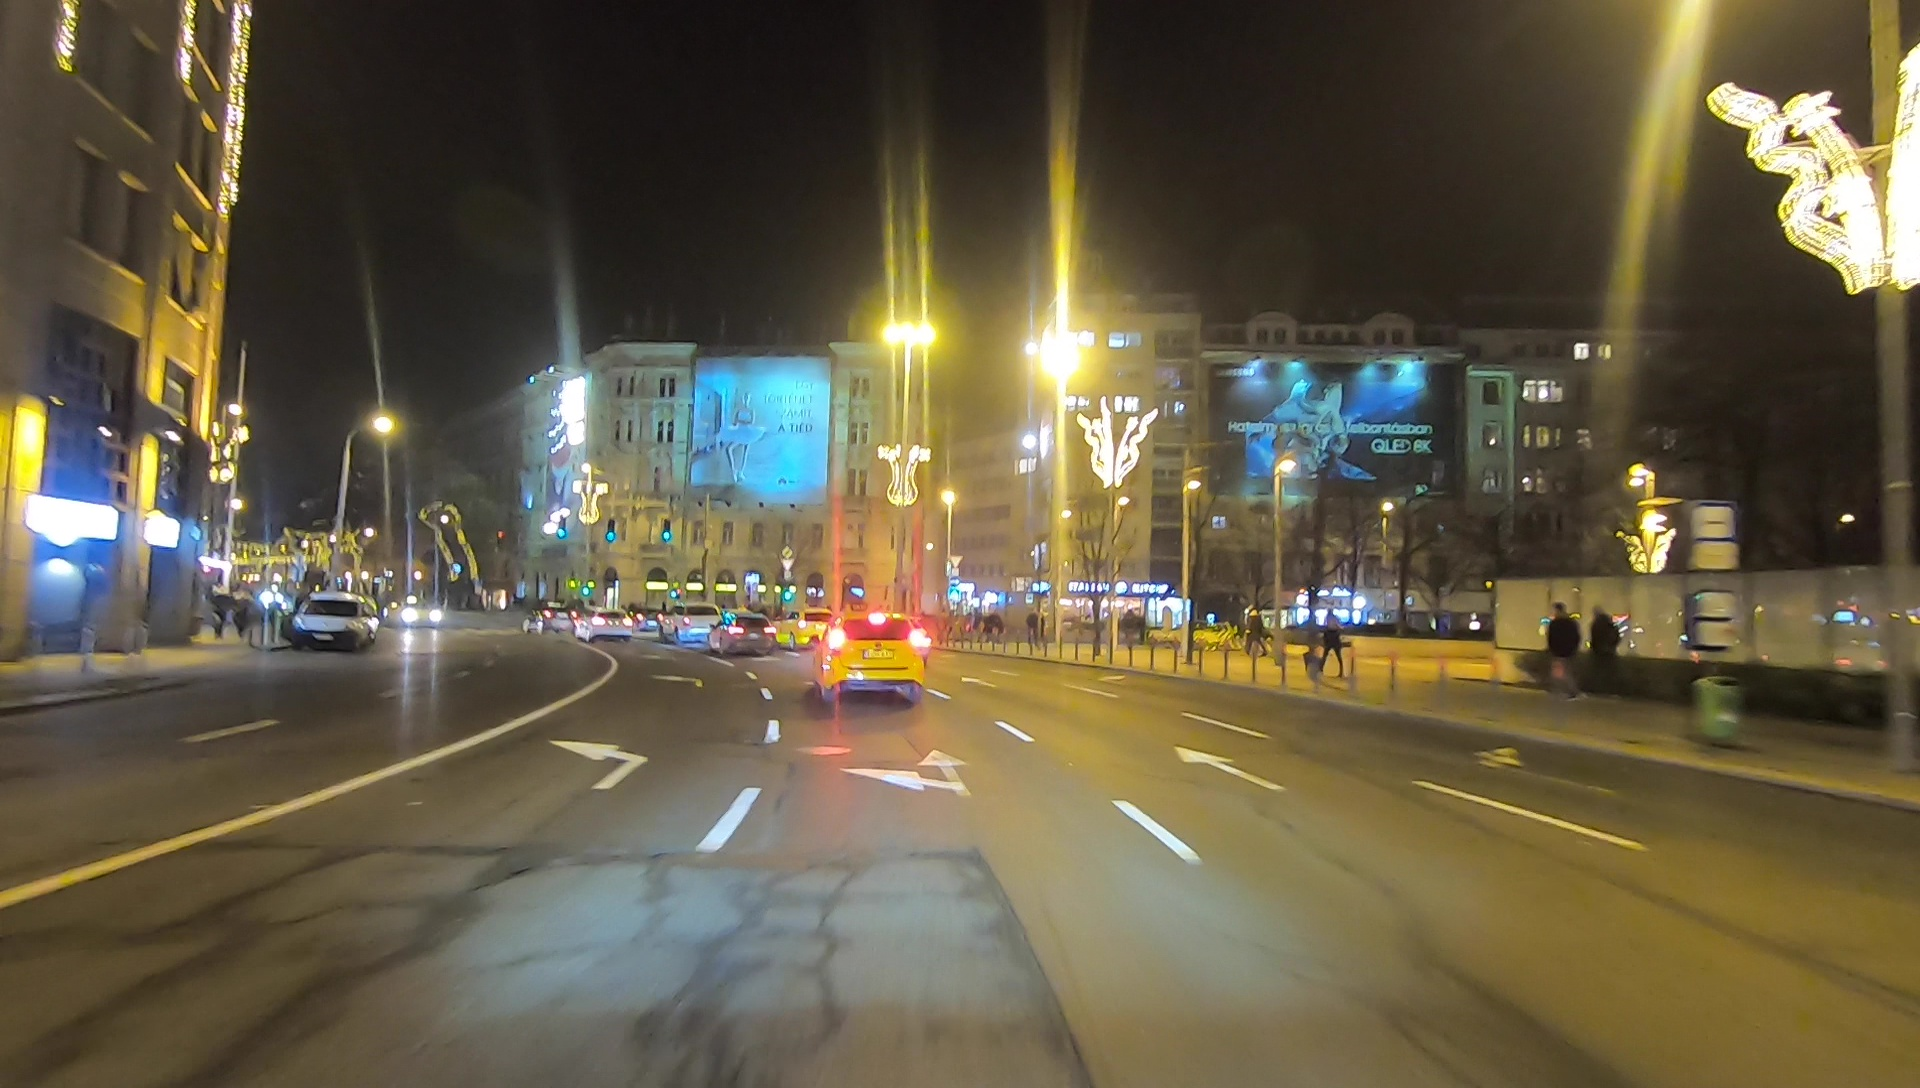person: (1543, 602, 1578, 704), (1588, 606, 1617, 704), (1319, 610, 1343, 682), (1243, 608, 1267, 661), (1308, 610, 1326, 678)
